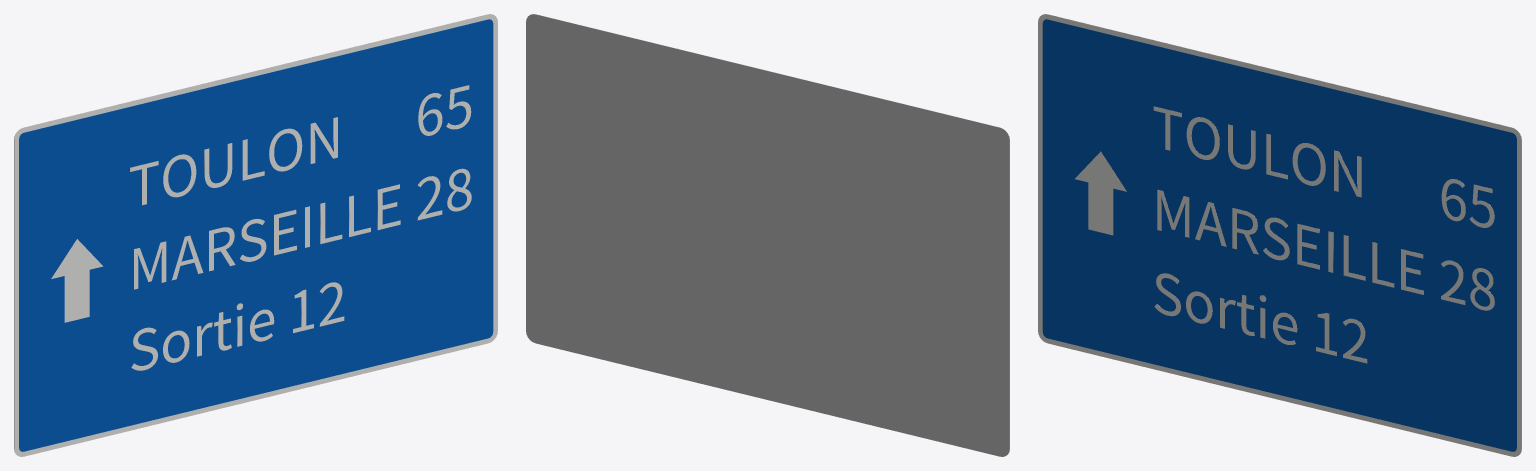
3 renders of one model, left to right at view 1: azimuth 30°, elevation 25°; view 2: azimuth 150°, elevation 25°; view 3: azimuth 330°, elevation 25°, orthographic.
Parts seen in each view (by area): view 1: D52c_fond01, D52c_cadre00, D52c_txt05, D52c_txt03, D52c_txt07, D52c_fl02, D52c_txt04, D52c_txt06, D52c_dos; view 2: D52c_dos; view 3: D52c_fond01, D52c_cadre00, D52c_txt05, D52c_txt03, D52c_txt07, D52c_fl02, D52c_txt04, D52c_txt06, D52c_dos.
Part boxes in pixels (bbox=[...]): D52c_fond01: bbox=[19, 19, 493, 451]; D52c_cadre00: bbox=[14, 14, 497, 456]; D52c_txt05: bbox=[134, 184, 400, 289]; D52c_txt03: bbox=[130, 117, 337, 205]; D52c_txt07: bbox=[131, 282, 344, 370]; D52c_fl02: bbox=[51, 239, 103, 322]; D52c_txt04: bbox=[418, 85, 471, 135]; D52c_txt06: bbox=[417, 168, 471, 220]; D52c_dos: bbox=[14, 14, 490, 451]; D52c_dos: bbox=[526, 14, 1009, 456]; D52c_fond01: bbox=[1042, 19, 1516, 451]; D52c_cadre00: bbox=[1038, 14, 1521, 456]; D52c_txt05: bbox=[1157, 189, 1423, 294]; D52c_txt03: bbox=[1153, 106, 1361, 197]; D52c_txt07: bbox=[1154, 273, 1367, 363]; D52c_fl02: bbox=[1075, 151, 1126, 235]; D52c_txt04: bbox=[1441, 179, 1494, 227]; D52c_txt06: bbox=[1441, 260, 1494, 310]; D52c_dos: bbox=[1045, 14, 1521, 451].
Size of the model in its own units: 2 by 1.3 by 0.0045.
